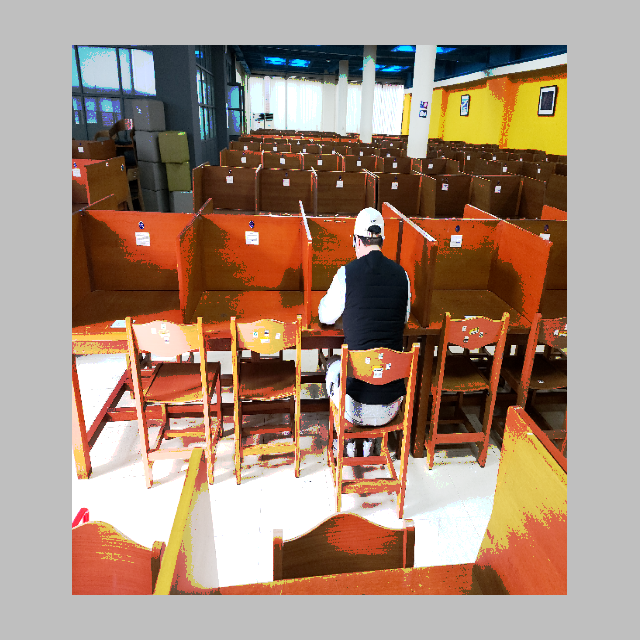empty: (186, 212, 305, 408), (72, 213, 182, 401)
full: (312, 212, 434, 419)
